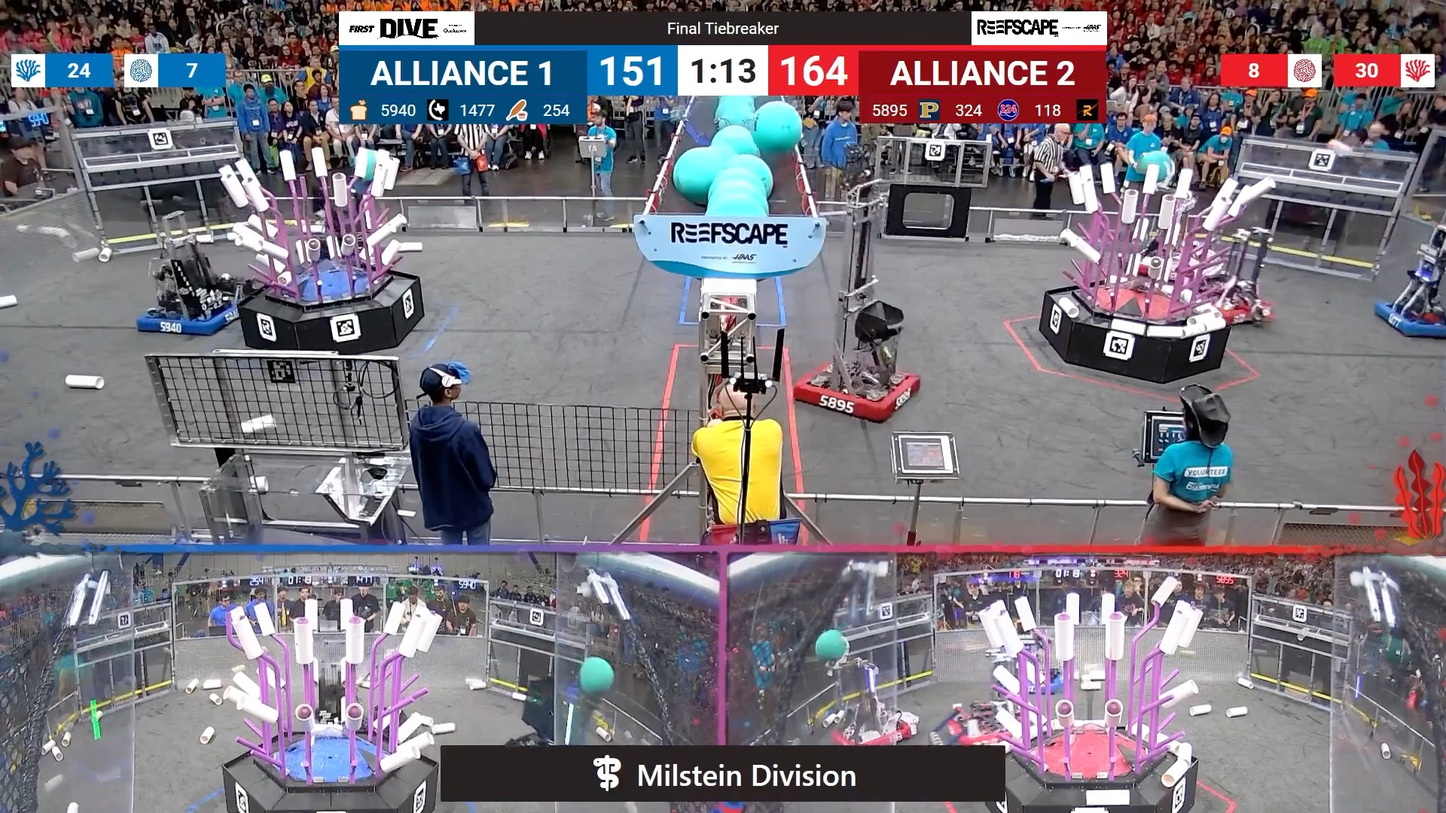bumpers: (787, 358, 929, 425), (137, 289, 252, 342), (1366, 297, 1446, 345), (1210, 284, 1279, 327), (827, 716, 921, 746), (999, 670, 1067, 698)
